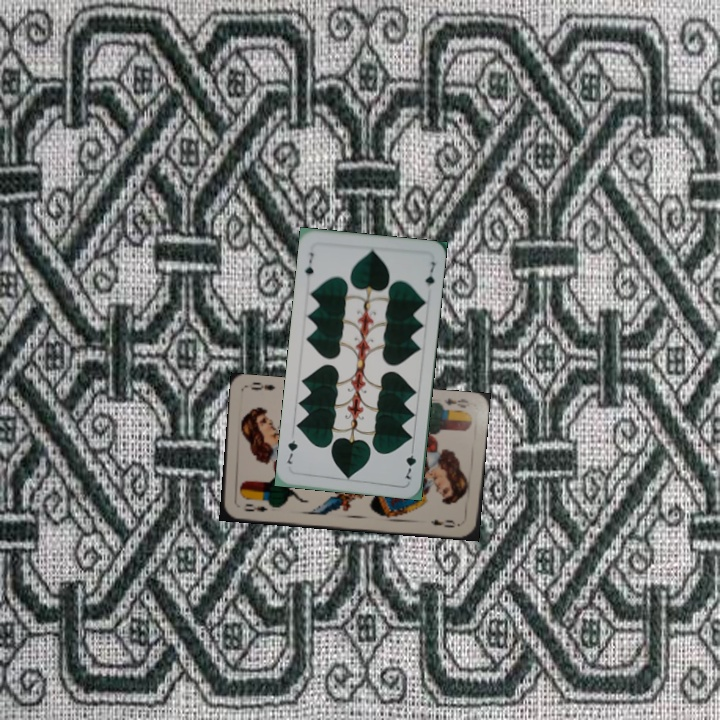EO: (440, 394, 472, 411), (239, 499, 270, 515)
G7: (401, 443, 418, 482), (301, 248, 316, 283)
